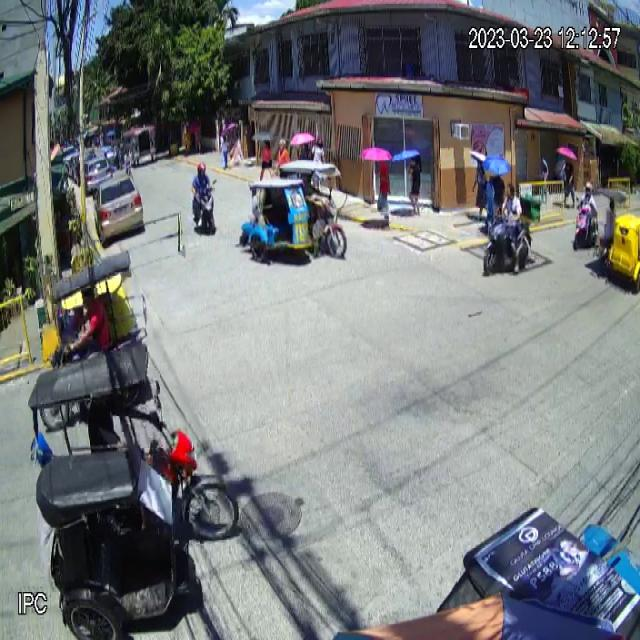Tricycle: (28, 340, 241, 640), (240, 156, 348, 265), (593, 185, 640, 291)
